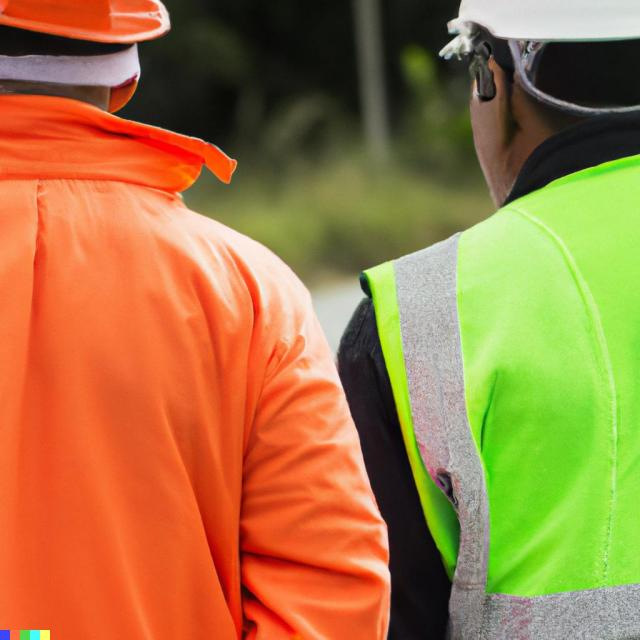Reflective-Jacket: (0, 68, 346, 640), (361, 137, 640, 640)
Safety-Helmet: (446, 0, 639, 49), (0, 0, 175, 53)
